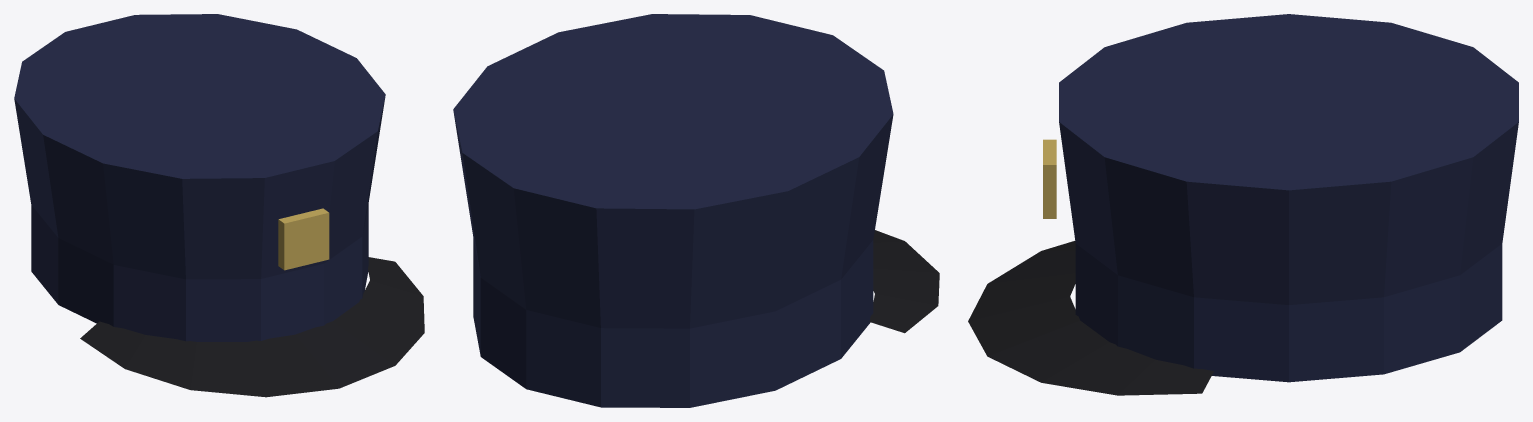
Rendered from Police_Cap.glb.
3 renders of one model, left to right at view 1: azimuth 30°, elevation 25°; view 2: azimuth 150°, elevation 25°; view 3: azimuth 270°, elevation 25°, orthographic. The views are drawn at different scales.
Parts seen in each view (by area): view 1: Police_Cap; view 2: Police_Cap; view 3: Police_Cap.
Boxes of the visible parts, box(x1,y1,x2,y2) form: Police_Cap: box(14, 14, 424, 397); Police_Cap: box(453, 14, 939, 407); Police_Cap: box(968, 14, 1518, 395).
Size of the model in its own units: 0.2465 by 0.1501 by 0.3237.
